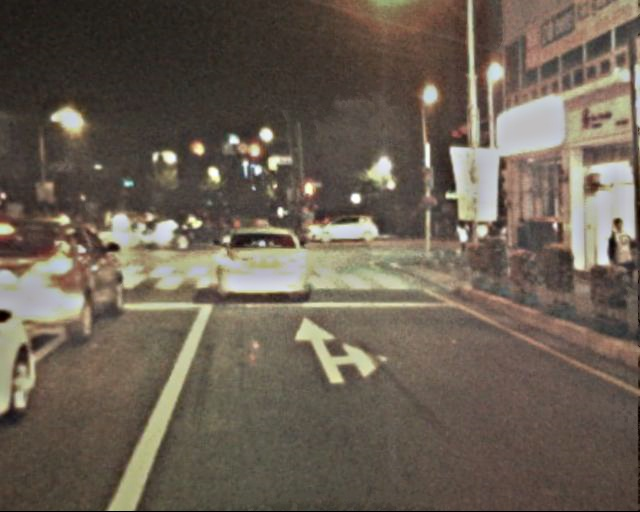person: (604, 215, 631, 296), (511, 220, 534, 277), (454, 218, 474, 264)
